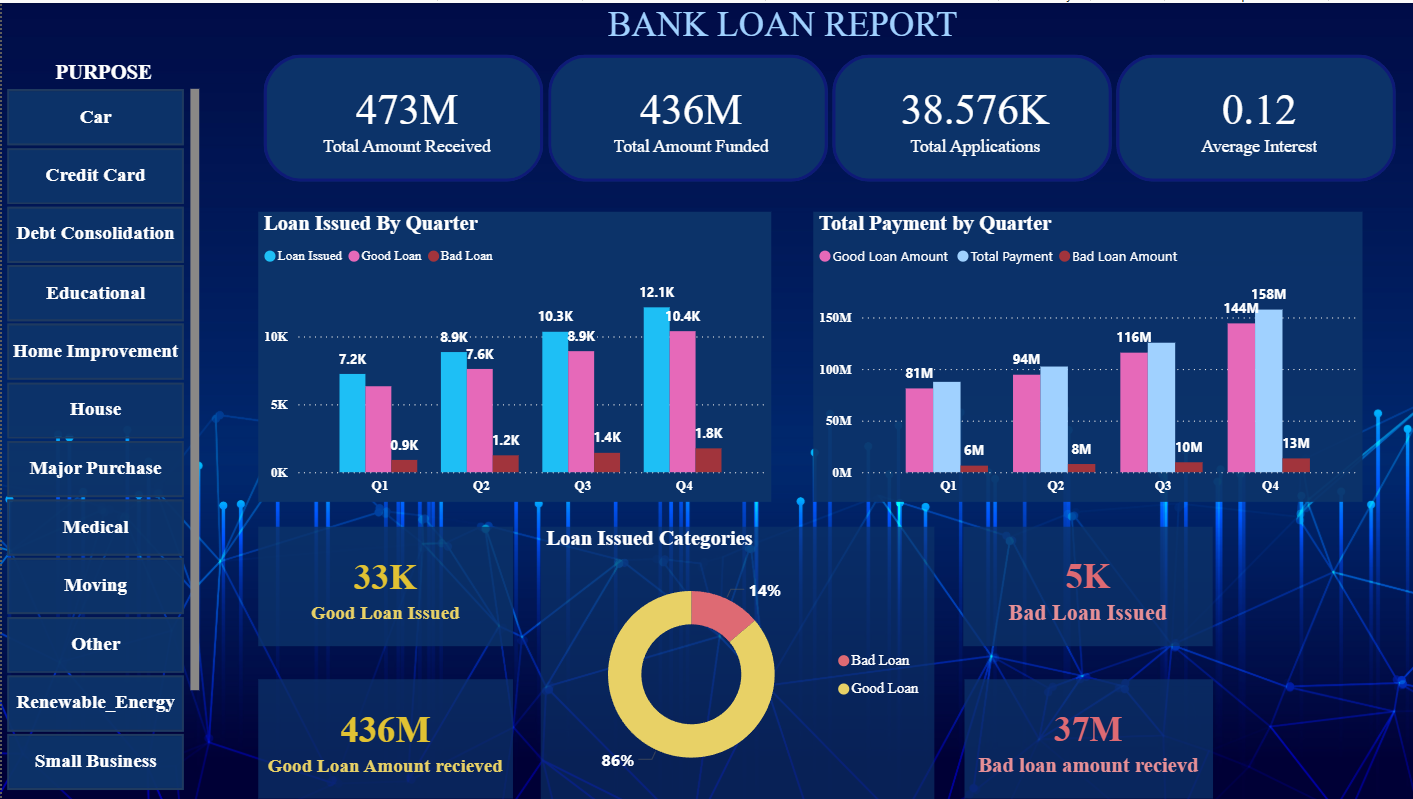

The page's visual inventory and layout, read from the dashboard file:
{"tool":"powerbi","page":{"name":"Page 1","canvas":[1280,720],"ordinal":0},"visuals":[{"type":"textbox","box":[515.1,0,381.4,60.5],"z":0},{"type":"advancedSlicerVisual","fields":{"Values":["financial_loan.purpose"]},"box":[0,52.3,183.7,667.4],"z":1000},{"type":"donutChart","title":"Loan Issued Categories","fields":{"Y":["financial_loan.Bad Loan","financial_loan.Good Loan"]},"box":[487.2,473.3,355.8,246.5],"z":2000},{"type":"card","fields":{"Values":["financial_loan.Good Loan"]},"box":[231.4,473.3,230.2,108.1],"z":3000},{"type":"card","fields":{"Values":["financial_loan.Bad Loan"]},"box":[869.8,473.3,225.6,108.1],"z":4000},{"type":"card","fields":{"Values":["financial_loan.Good Loan Amount recieved"]},"box":[231.4,611.6,230.2,108.1],"z":5000},{"type":"card","fields":{"Values":["financial_loan.Bad loan amount recievd"]},"box":[870.9,611.6,224.4,108.1],"z":6000},{"type":"clusteredColumnChart","title":"Loan Issued By Quarter","fields":{"Category":["financial_loan.quarter"],"Y":["CountNonNull(financial_loan.application_type)","financial_loan.Good Loan","financial_loan.Bad Loan"]},"box":[231.4,188.4,464,262.8],"z":7000},{"type":"clusteredColumnChart","title":"Total Payment by Quarter","fields":{"Category":["financial_loan.quarter"],"Y":["financial_loan.Good Loan Amount recieved","Sum(financial_loan.total_payment)","financial_loan.Bad loan amount recievd"]},"box":[733.7,188.4,496.5,262.8],"z":8000},{"type":"cardVisual","fields":{"Data":["Sum(financial_loan.total_payment)","Sum(financial_loan.loan_amount)","CountNonNull(financial_loan.id)","Avg(financial_loan.int_rate)"]},"box":[231.4,41.9,1034.9,125.6],"z":9000}]}

Visuals, with their boxes in screenshot pixels (x1, y1, x2, y2), scaled from the page's 1280x720 canvas onto the 1413x799 screenshot:
textbox: detection(569, 0, 990, 67)
advancedSlicerVisual - financial_loan.purpose: detection(0, 58, 203, 798)
"Loan Issued Categories" donutChart: detection(538, 525, 931, 798)
card - financial_loan.Good Loan: detection(255, 525, 510, 645)
card - financial_loan.Bad Loan: detection(960, 525, 1209, 645)
card - financial_loan.Good Loan Amount recieved: detection(255, 679, 510, 798)
card - financial_loan.Bad loan amount recievd: detection(961, 679, 1209, 798)
"Loan Issued By Quarter" clusteredColumnChart: detection(255, 209, 768, 501)
"Total Payment by Quarter" clusteredColumnChart: detection(810, 209, 1358, 501)
cardVisual - Sum(financial_loan.total_payment) x Sum(financial_loan.loan_amount): detection(255, 46, 1398, 186)
